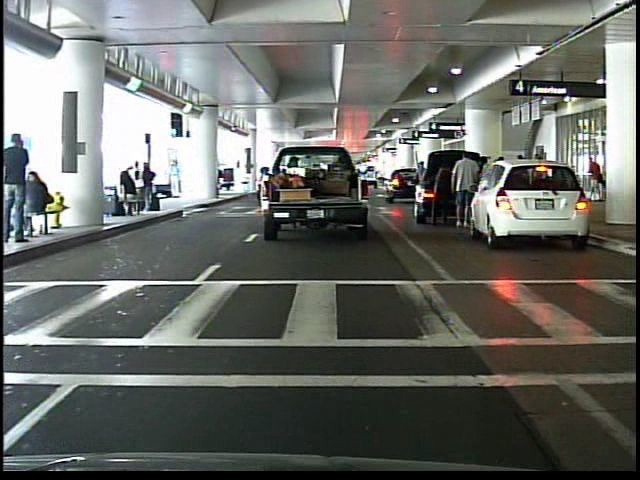person: (6, 132, 37, 248), (451, 147, 480, 231), (427, 156, 457, 230), (582, 154, 607, 204), (412, 157, 430, 213), (168, 157, 186, 200)
